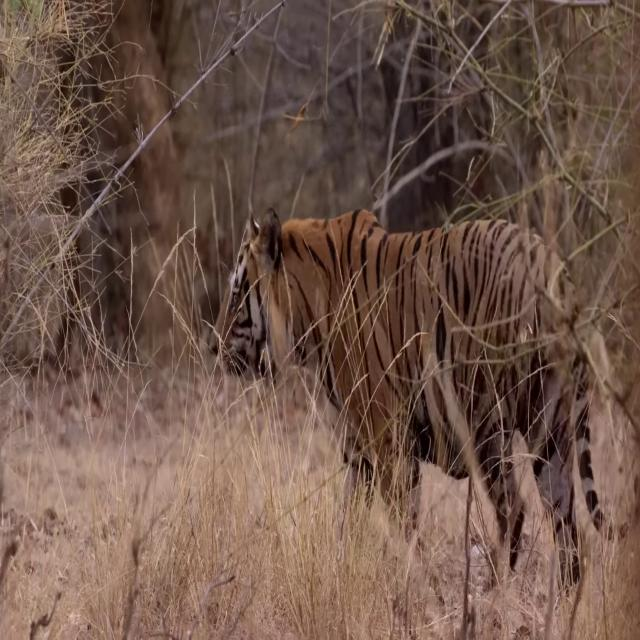tiger: (210, 205, 630, 593)
